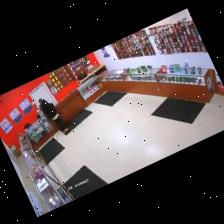person: (40, 99, 67, 133)
